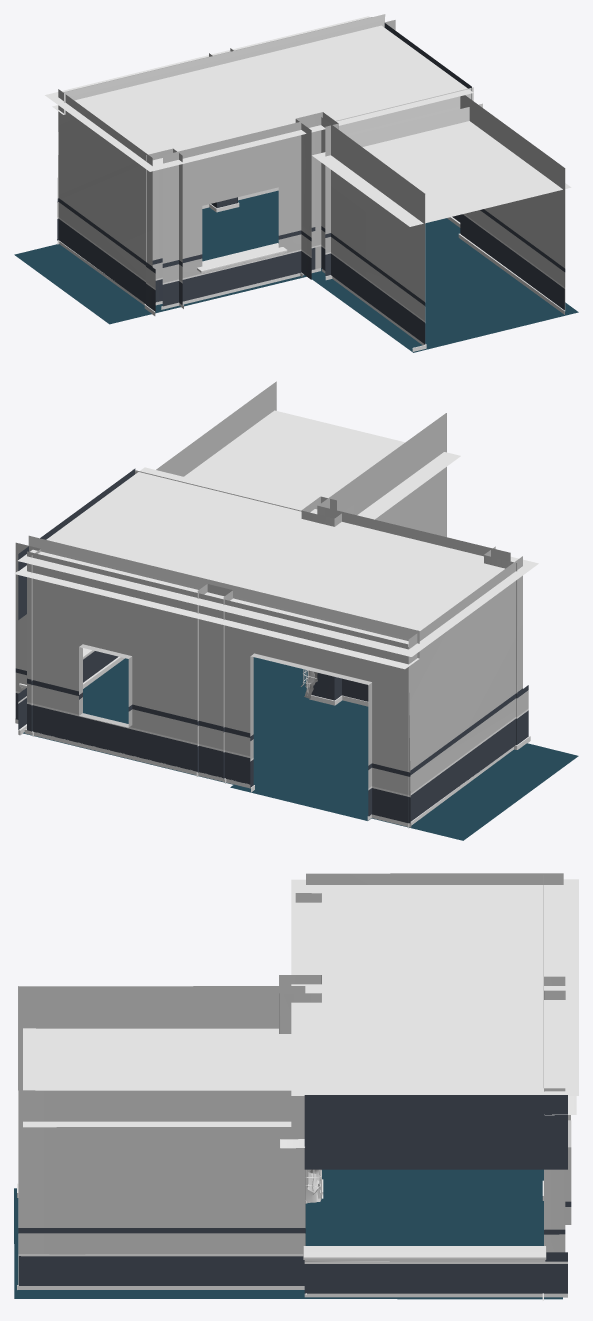
Rendered from SM_H_Building_Tide_PrisonMainInter_10_ATLAS.fbx.
The picture shows the model from 3 angles, top to bottom: view 1: azimuth 30°, elevation 25°; view 2: azimuth 150°, elevation 25°; view 3: azimuth 270°, elevation 25°; orthographic projection. The views are drawn at different scales.
Parts seen in each view (by area): view 1: SM_H_Building_Tide_PrisonMainInter_10_ATLAS; view 2: SM_H_Building_Tide_PrisonMainInter_10_ATLAS; view 3: SM_H_Building_Tide_PrisonMainInter_10_ATLAS.
Part boxes in pixels (box(x1,y1,x2,y2)): SM_H_Building_Tide_PrisonMainInter_10_ATLAS: box(14, 14, 578, 352); SM_H_Building_Tide_PrisonMainInter_10_ATLAS: box(14, 381, 578, 840); SM_H_Building_Tide_PrisonMainInter_10_ATLAS: box(14, 873, 578, 1300).
Size of the model in its own units: 1292 by 1230 by 518.
